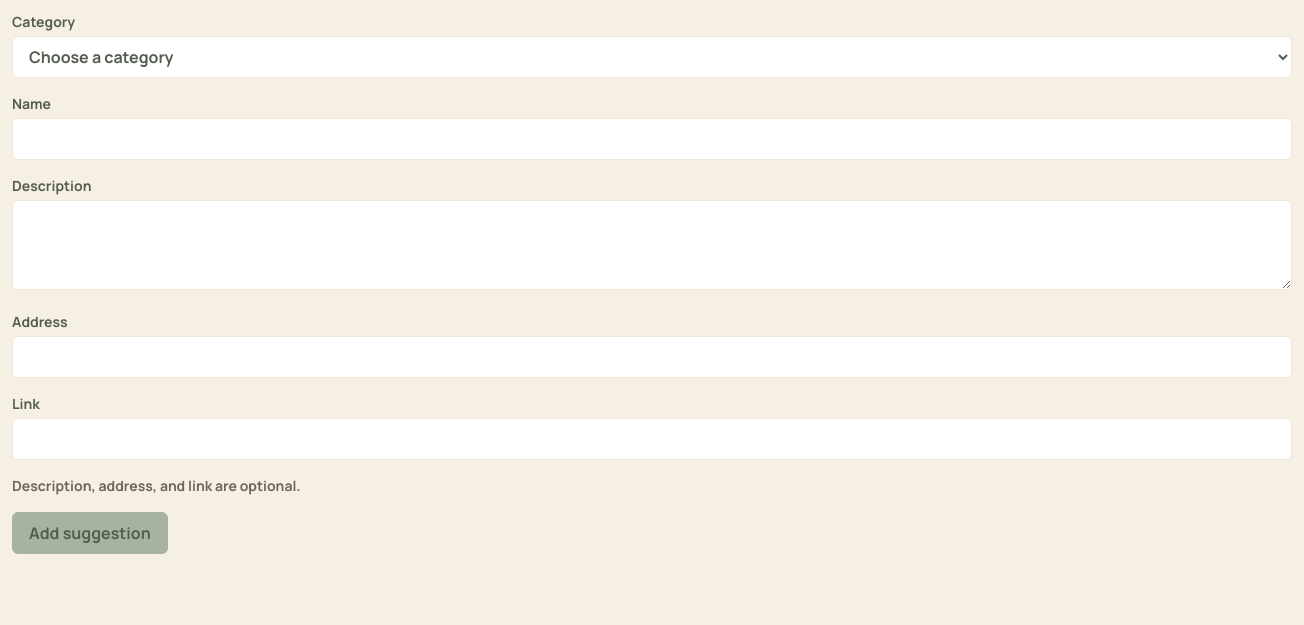
Scenario: SuggestionForm › submits a categorized suggestion
Select "Restaurant" in the dropdown labelled "Category" at (652,57), box [12,36,1292,78]
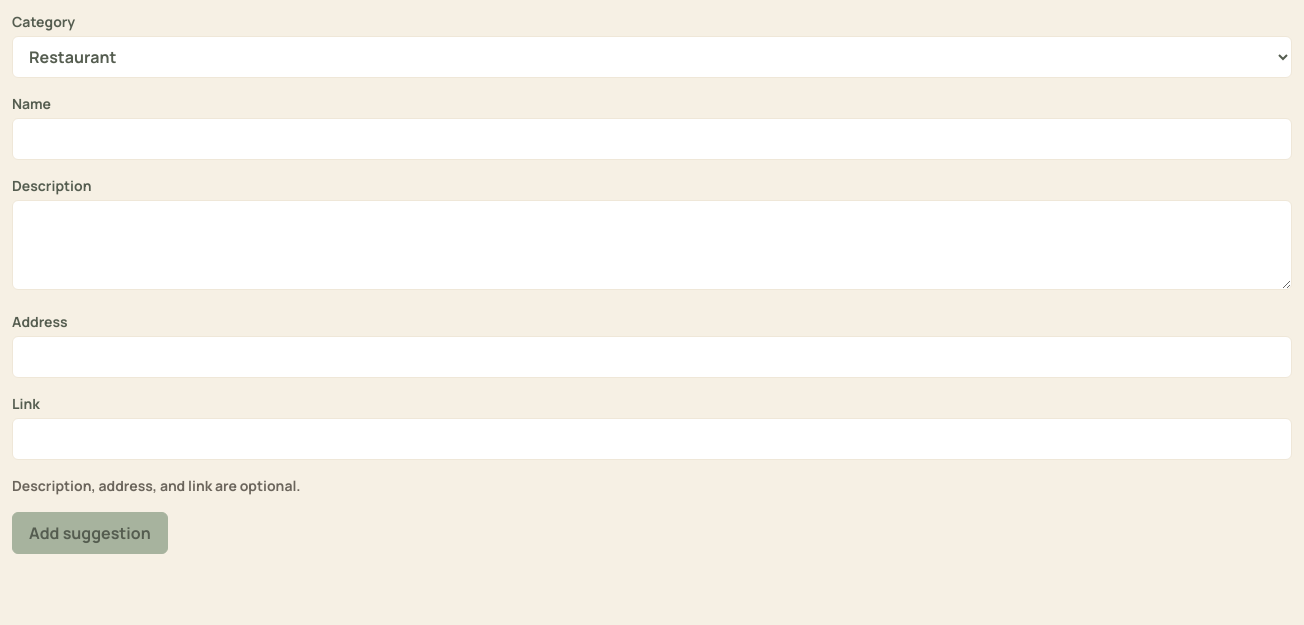
Type "Pastel de nata" into the field labelled "Name".
click(652, 139); type("Pastel de nata")  # box [12,118,1292,160]
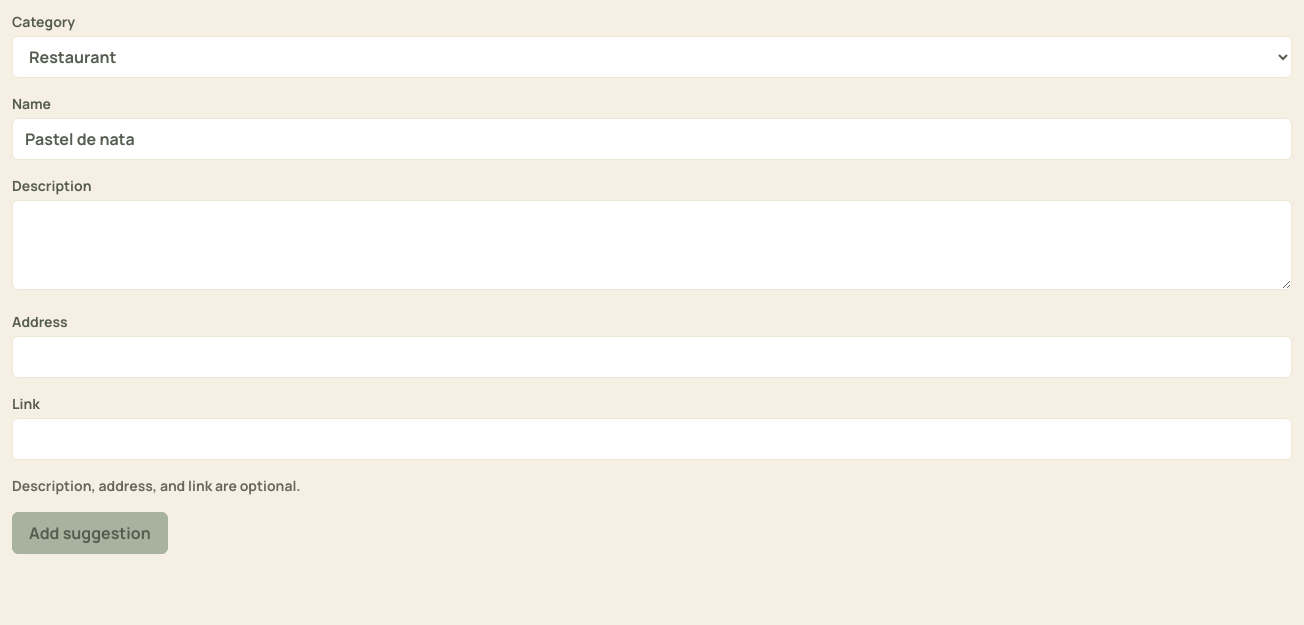
Type "A bakery stop" into the text box labelled "Description".
click(652, 245); type("A bakery stop")  # box [12,200,1292,290]
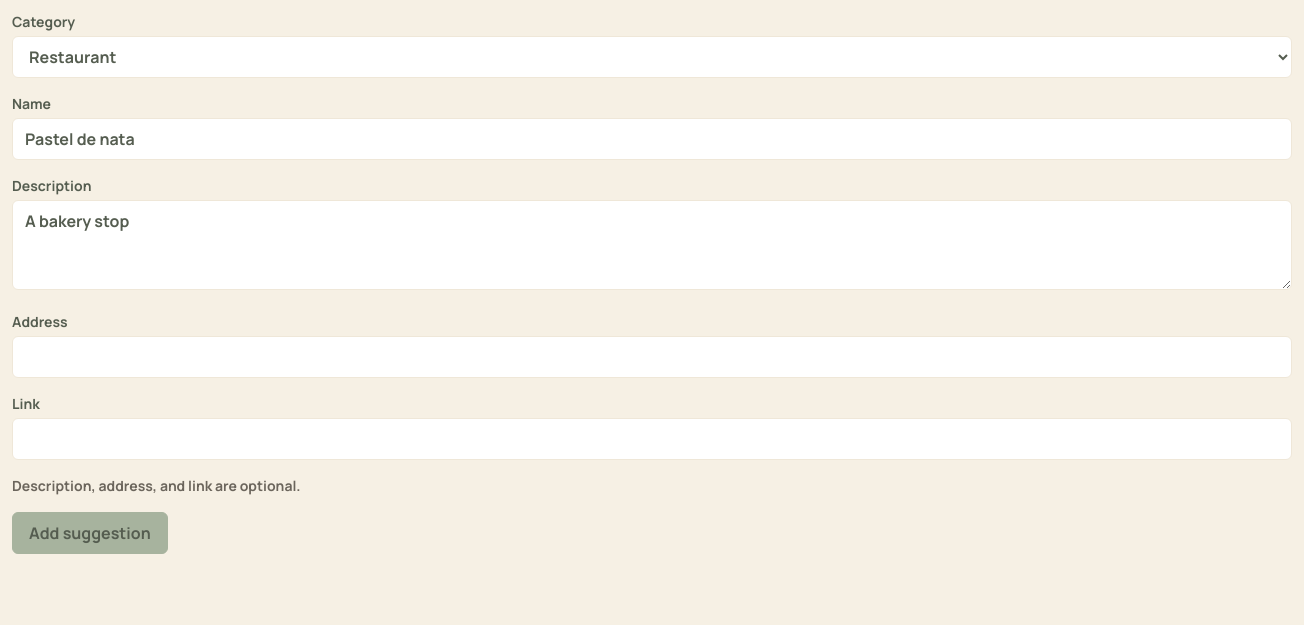
Type "Rua da Prata" into the field labelled "Address".
click(652, 357); type("Rua da Prata")  # box [12,336,1292,378]
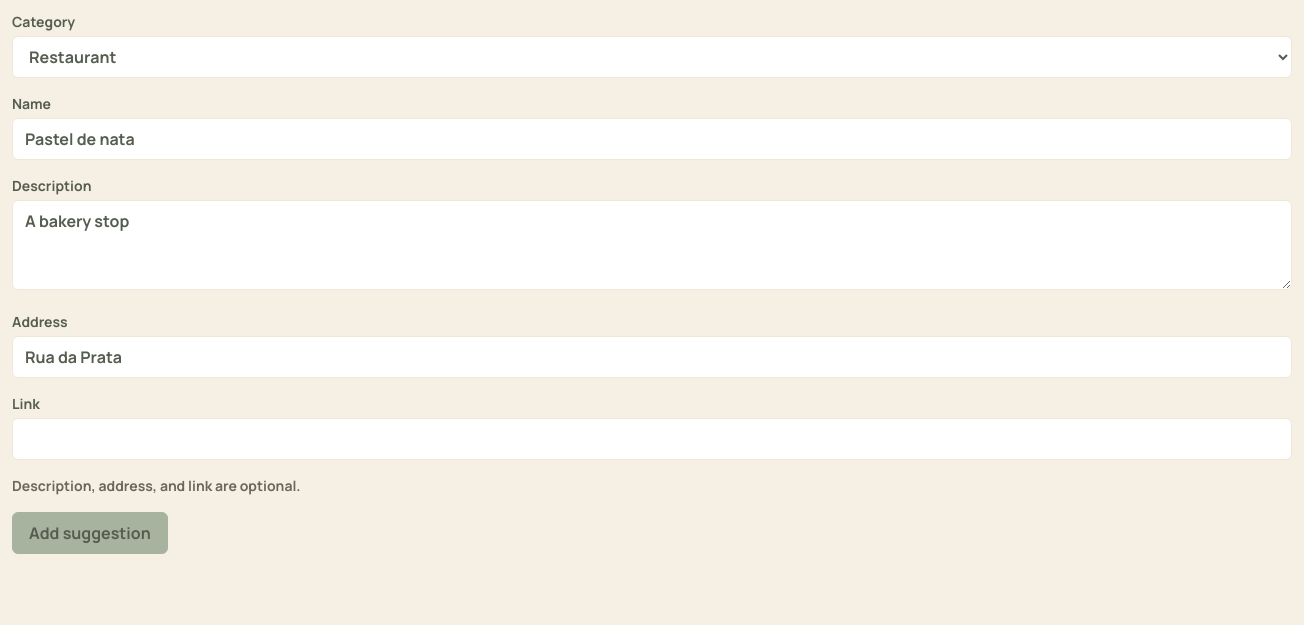
Type "https://example.com/nata" into the field labelled "Link".
click(652, 439); type("https://example.com/nata")  # box [12,418,1292,460]
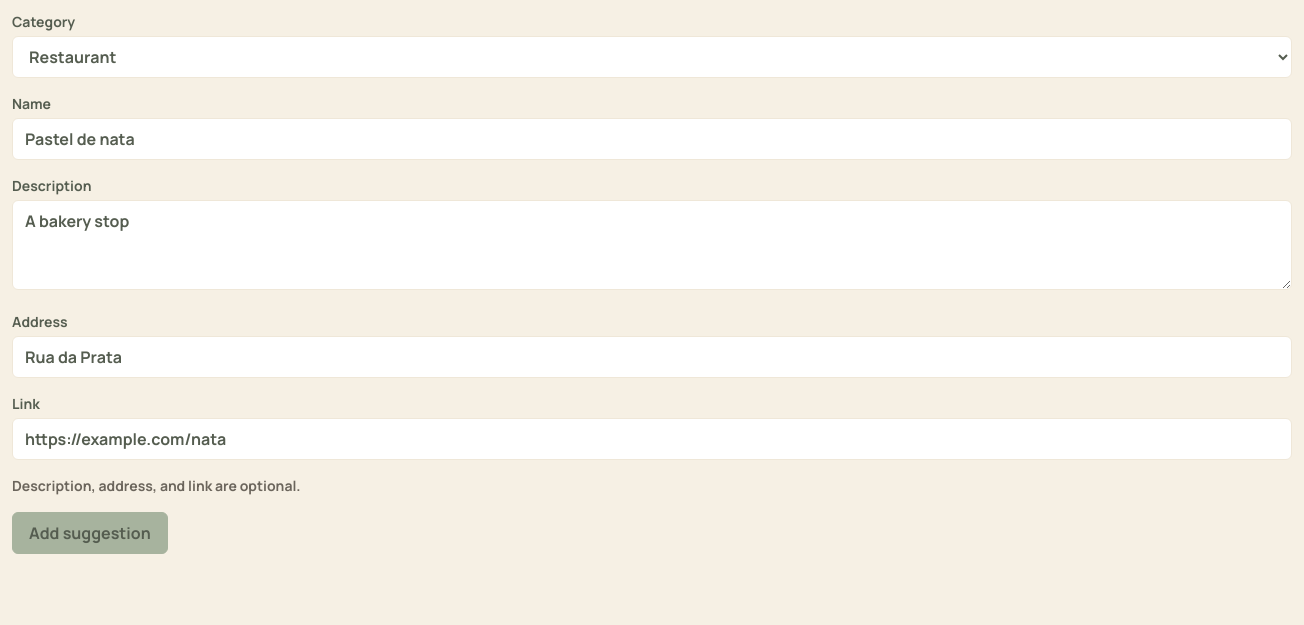
Click the button "Add suggestion".
click(90, 533)  # box [12,512,168,554]
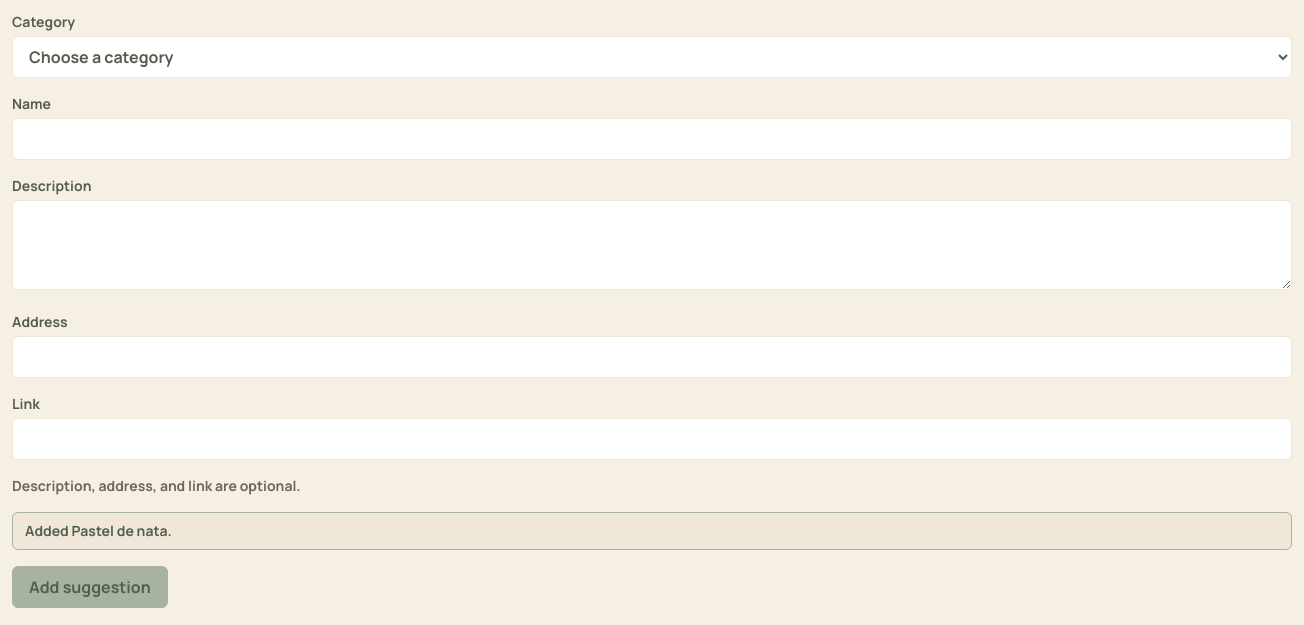
Check: the message reads "Added Pastel de nata.", box [25,521,172,540]
